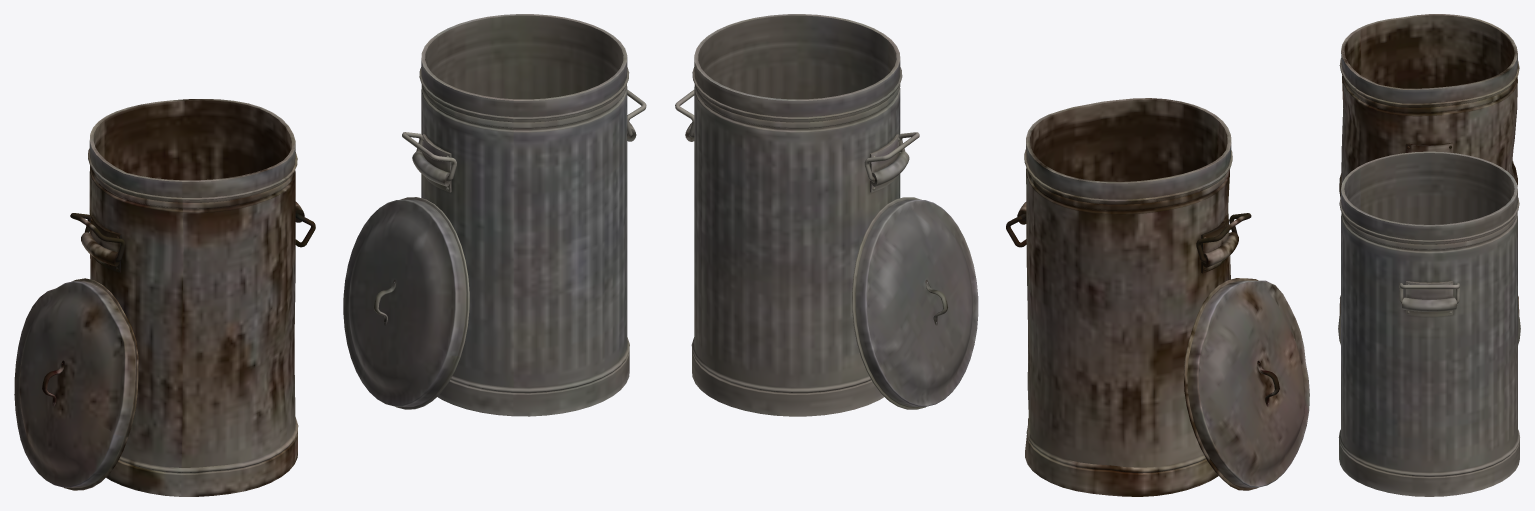
The model's file is bin.glb.
The picture shows the model from 3 angles, left to right: view 1: azimuth 30°, elevation 25°; view 2: azimuth 150°, elevation 25°; view 3: azimuth 270°, elevation 25°; orthographic projection. The views are drawn at different scales.
Visible parts, largest first — view 1: metal_trash_can, metal_trash_can_rust, metal_trash_can_lid, metal_trash_can_rust_lid; view 2: metal_trash_can, metal_trash_can_rust, metal_trash_can_lid, metal_trash_can_rust_lid; view 3: metal_trash_can, metal_trash_can_rust, metal_trash_can_handle_right.
Boxes of the visible parts, box(x1,y1,x2,y2) form: metal_trash_can: box(412, 14, 636, 416); metal_trash_can_rust: box(81, 99, 304, 496); metal_trash_can_lid: box(343, 197, 469, 409); metal_trash_can_rust_lid: box(14, 278, 138, 490); metal_trash_can: box(685, 14, 909, 416); metal_trash_can_rust: box(1017, 98, 1238, 496); metal_trash_can_lid: box(852, 197, 978, 409); metal_trash_can_rust_lid: box(1183, 278, 1309, 490); metal_trash_can: box(1338, 151, 1519, 496); metal_trash_can_rust: box(1339, 14, 1519, 316); metal_trash_can_handle_right: box(1399, 283, 1459, 303).
Bounding box in the file's own units: 1.78 × 0.9062 × 0.5563.
3 materials, 3 textured.
